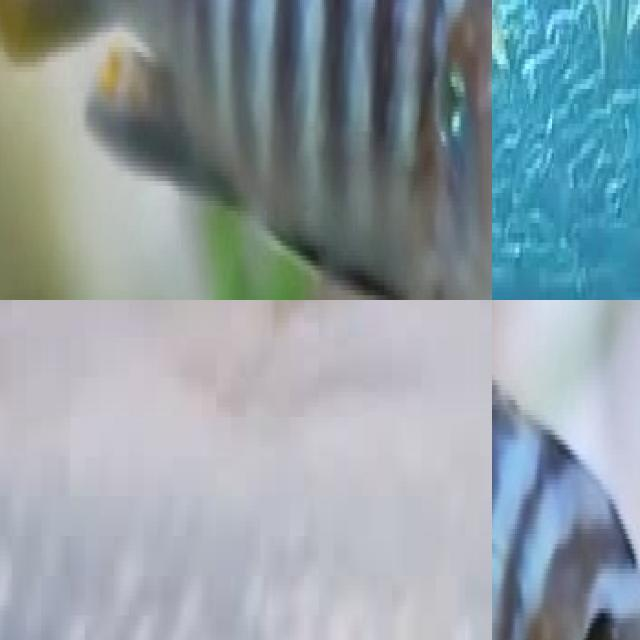fish: (0, 300, 492, 640), (0, 0, 492, 300), (492, 300, 640, 640)
